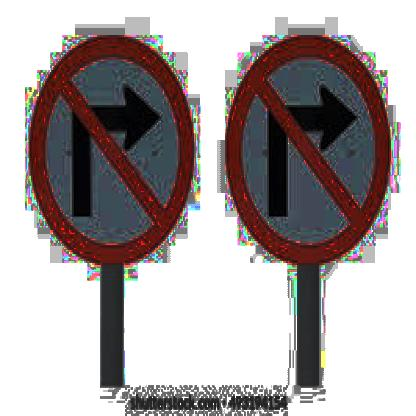No right turn: (21, 32, 197, 268), (226, 30, 391, 265)
